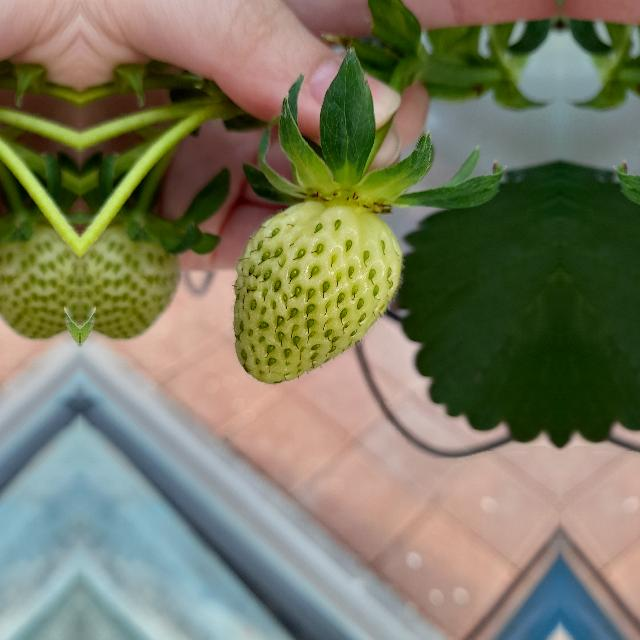Health_25: (232, 199, 402, 383), (84, 209, 190, 355), (0, 209, 76, 355)
